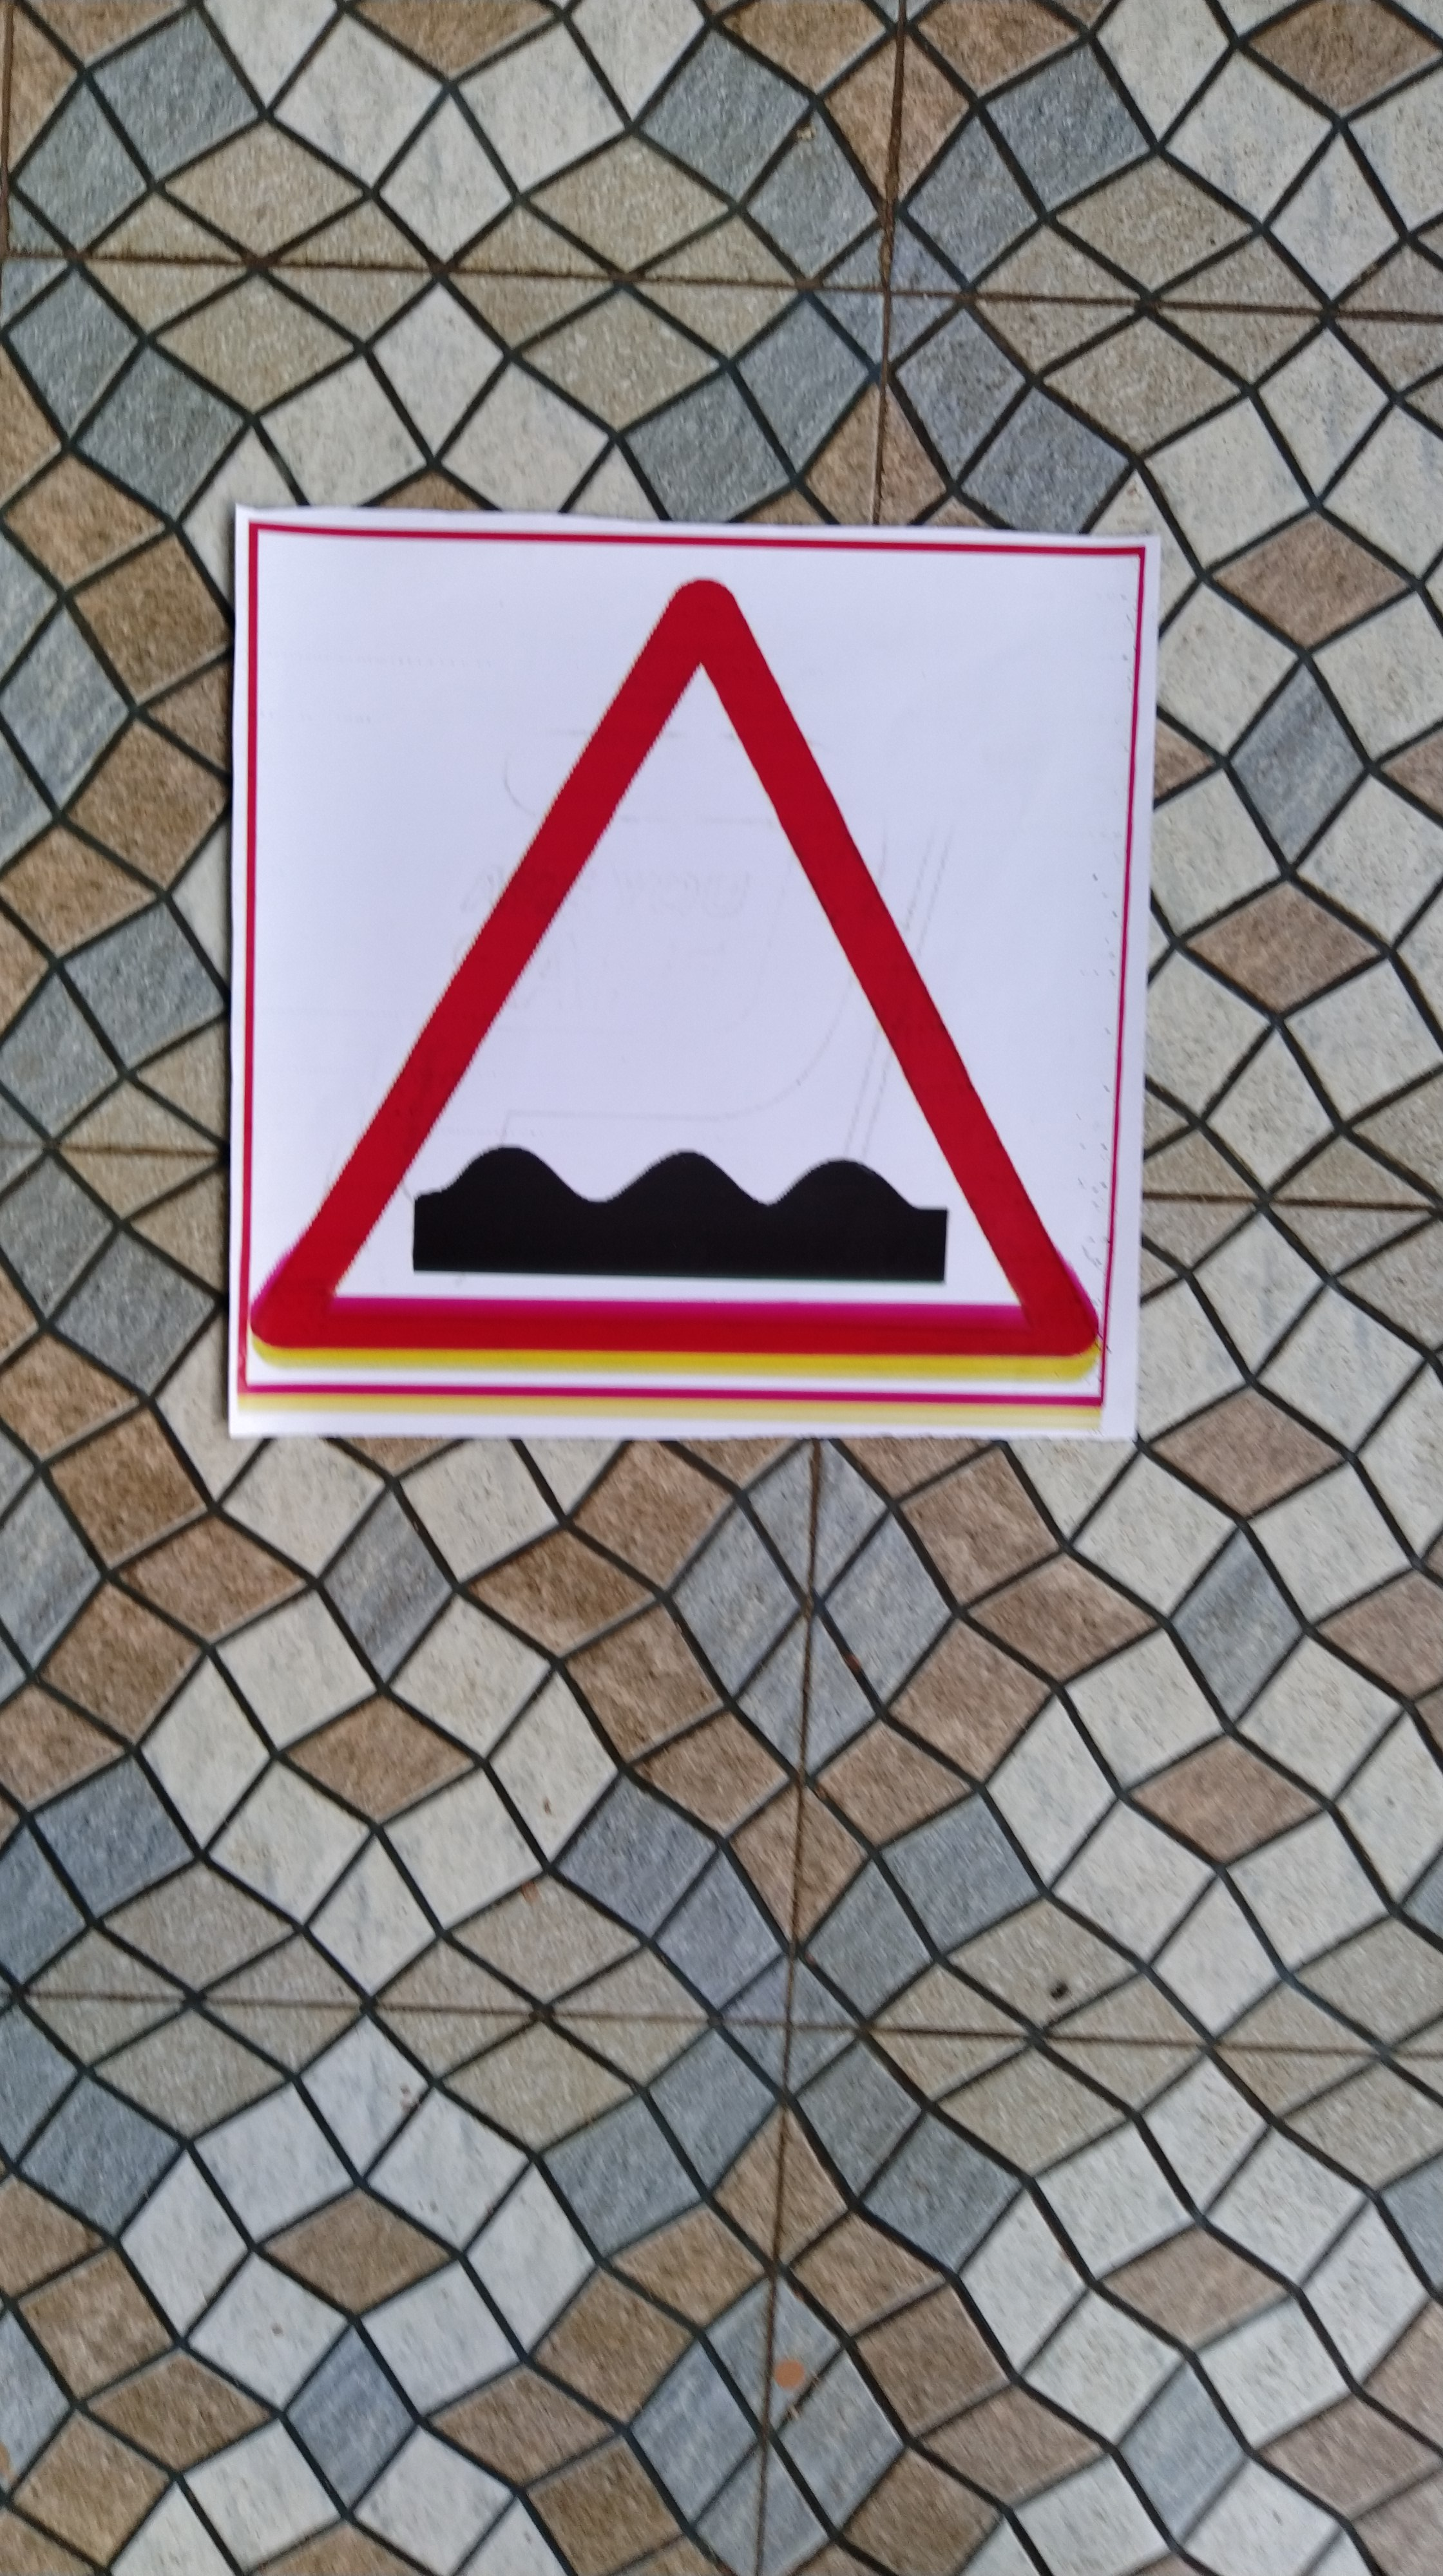speed breaker: (241, 501, 1133, 1435)
